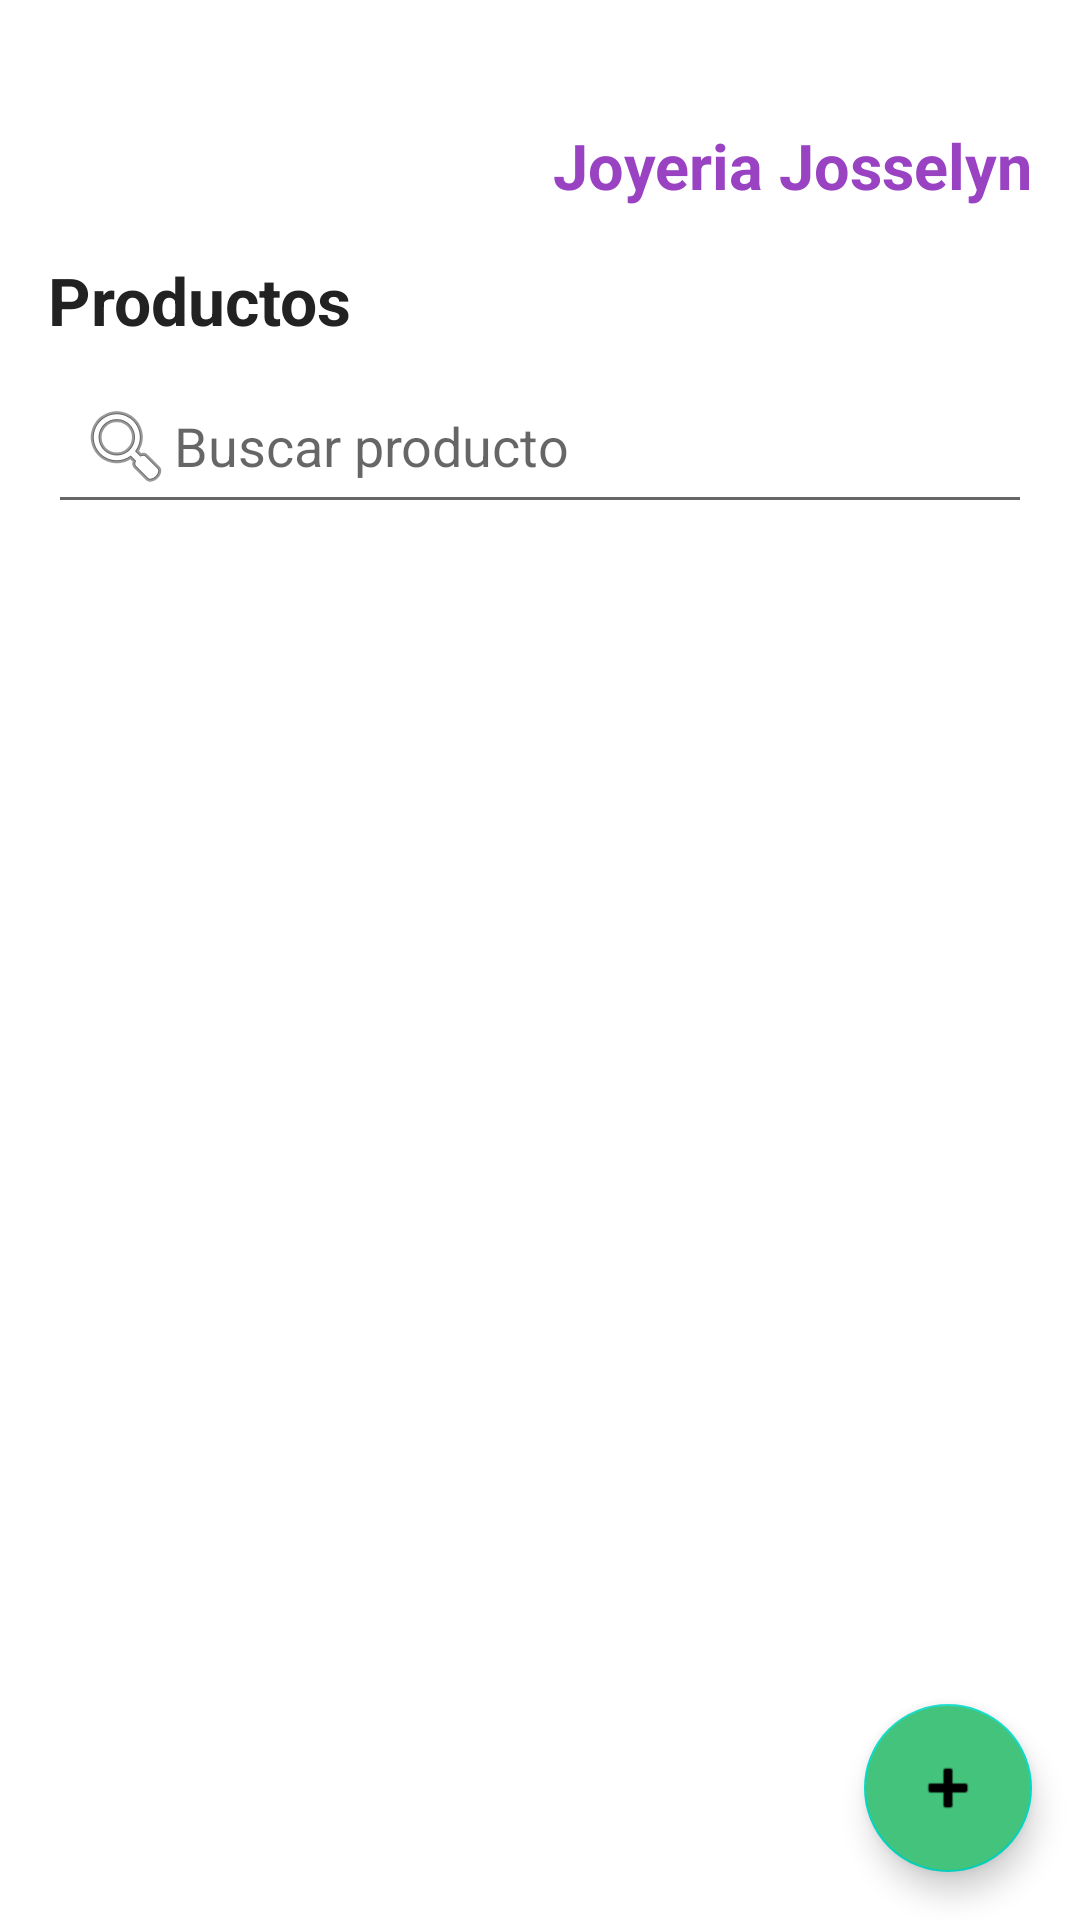

Where icons sit on this 1080px×1920px app screen, as (x1, y1, x2, y2):
Agregar producto: (864, 1704, 1032, 1872)
